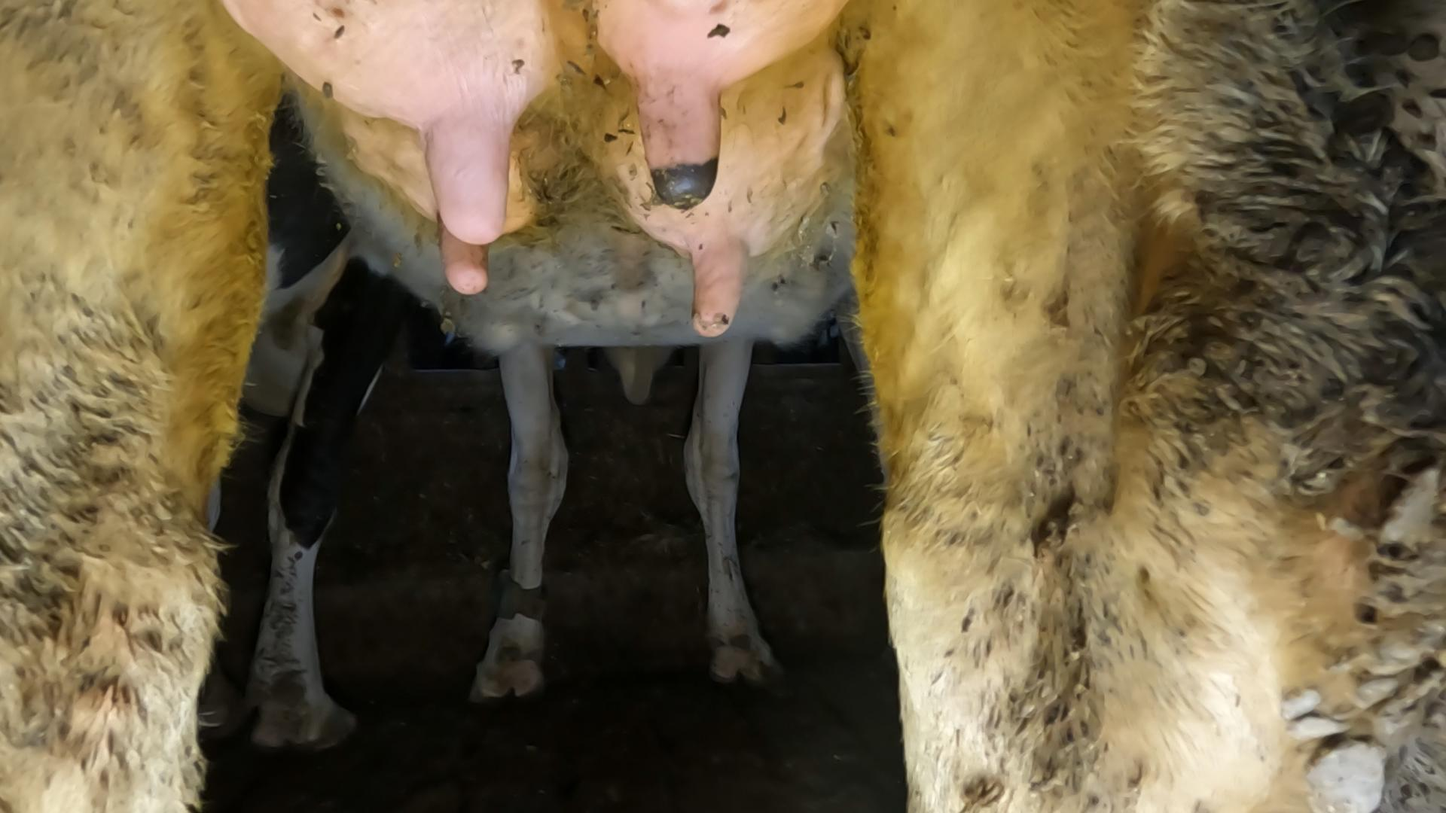Zitze: (416, 82, 543, 249), (633, 66, 730, 218), (684, 220, 761, 342), (427, 212, 504, 299)
